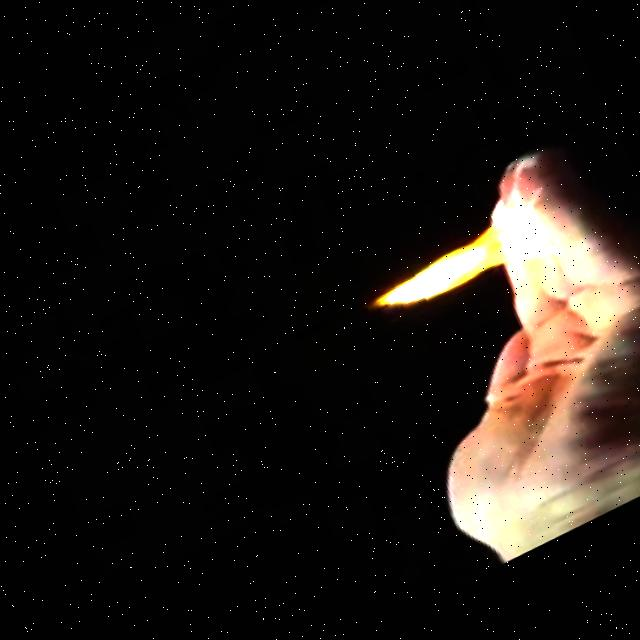Fire: (318, 197, 571, 359)
